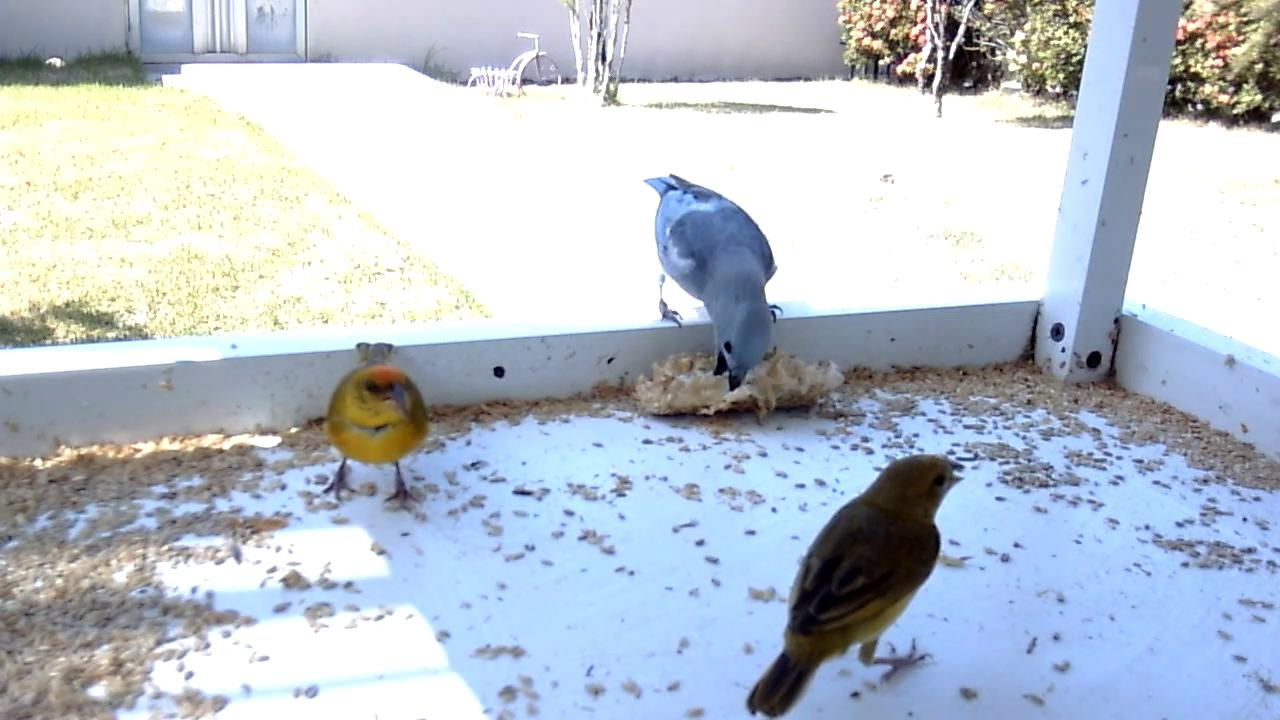canario_do_amazonas: (743, 453, 967, 720), (324, 339, 430, 513)
sanhaco_da_amazonia: (641, 172, 786, 394)
